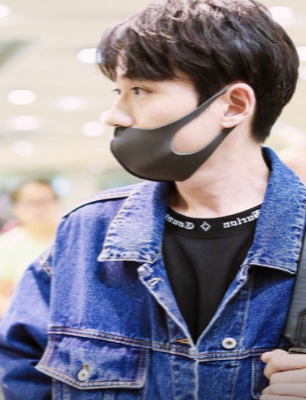mask_weared_incorrect: (104, 72, 215, 182)
